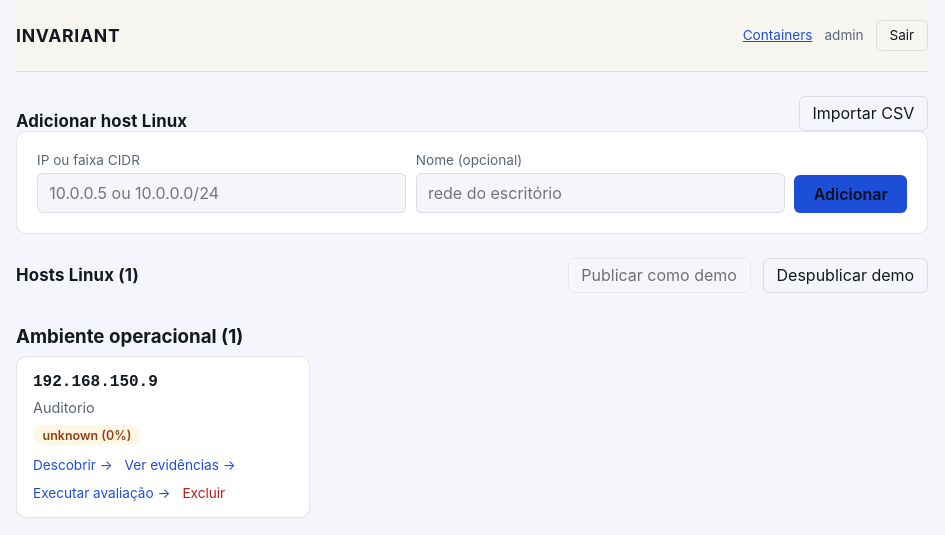
Test: Endpoints -- evidência real de falha de discovery › mantém compatibilidade com discovery antigo (sem port_attempts)
expect the button "Importar CSV" is shown: met, box [799,96,928,131]
Click the button "Ver evidências →" at x=180, y=465, box [125,457,236,473]
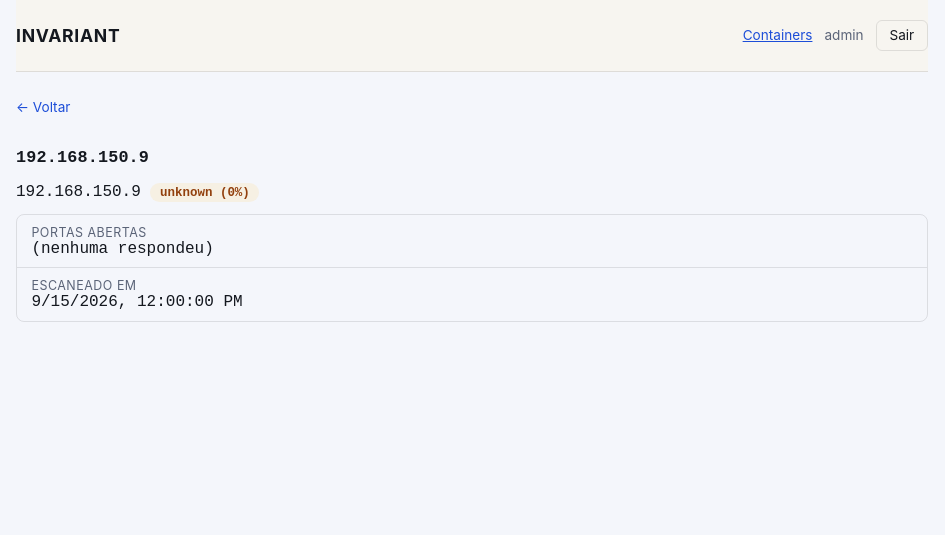
expect the text "(nenhuma respondeu)" is shown: met, box [31,240,214,258]
